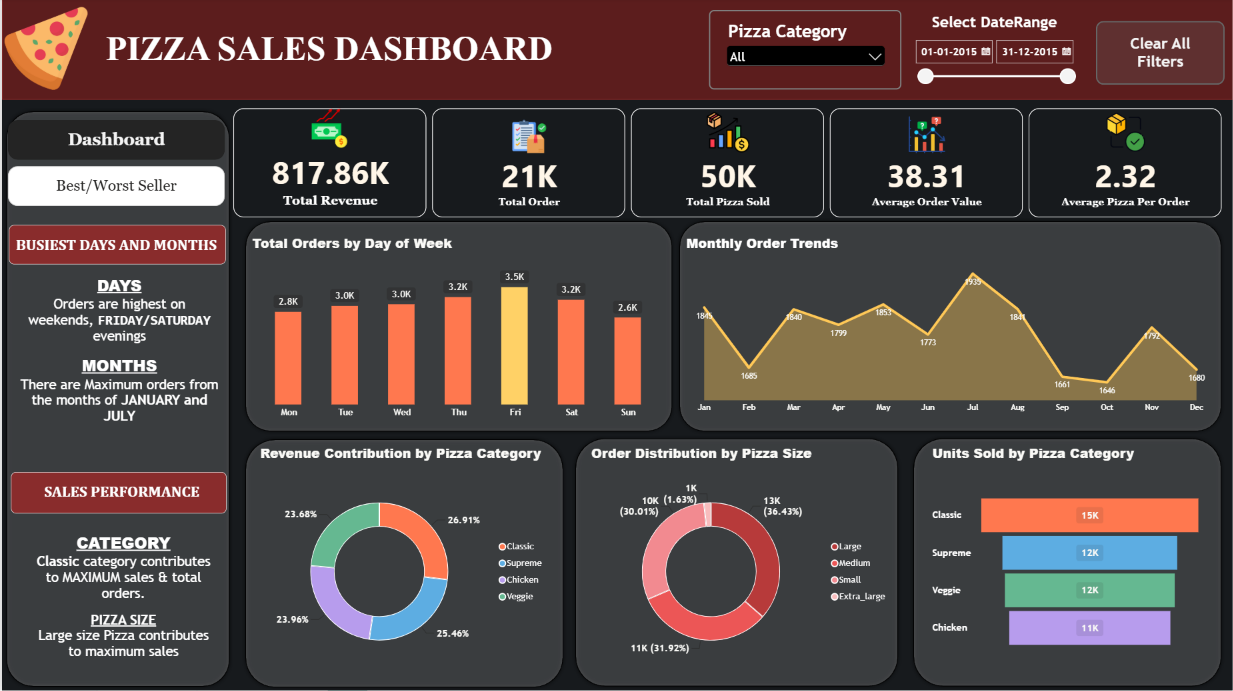

Layout of this report page (visuals, bound fields, positions):
{"tool":"powerbi","page":{"name":"Dashboard","canvas":[1920,1080],"ordinal":0},"visuals":[{"type":"textbox","box":[10,0,280,280],"z":0},{"type":"textbox","box":[10,290,280,280],"z":1000},{"type":"cardVisual","fields":{"Data":["KPIs.Total Revenue","KPIs.Total Order","KPIs.Total Pizza Sold","KPIs.Average Order Value","KPIs.Average Pizza Per Order"]},"box":[361,171.9,1545,171.9],"z":2000},{"type":"shape","box":[1.6,171.5,358.6,907.5],"z":3000},{"type":"shape","box":[1050.4,343.8,855.6,338],"z":4000},{"type":"shape","box":[373.9,682.4,506.1,397.2],"z":5000},{"type":"shape","box":[888.1,681.8,513.7,397.2],"z":6000},{"type":"shape","box":[1415.2,681.8,490.8,397.2],"z":7000},{"type":"shape","box":[374.3,343.8,676.1,338],"z":8000},{"type":"columnChart","title":"Total Orders by Day of Week","fields":{"Category":["Calender Table.Day Name"],"Y":["KPIs.Total Order"]},"box":[374.3,353.3,676.1,320.9],"z":9000},{"type":"stackedAreaChart","title":"Monthly Order Trends","fields":{"Category":["Calender Table.Month Name"],"Y":["KPIs.Total Order"]},"box":[1050.4,353.3,855.6,311.3],"z":10000},{"type":"donutChart","title":"Revenue Contribution by Pizza Category","fields":{"Category":["pizza_sales pizza_sales.pizza_category"],"Y":["Divide(KPIs.Total Revenue, ScopedEval(KPIs.Total Revenue, []))"]},"box":[386.9,682.1,480.3,383.6],"z":11000},{"type":"donutChart","title":"Order Distribution by Pizza Size","fields":{"Category":["pizza_sales pizza_sales.pizza_size"],"Y":["KPIs.Total Order"]},"box":[902.2,682.1,500.3,383.6],"z":12000},{"type":"funnel","title":"Units Sold by Pizza Category","fields":{"Category":["pizza_sales pizza_sales.pizza_category"],"Y":["KPIs.Total Pizza Sold"]},"box":[1434.2,682.1,451.9,383.6],"z":13000},{"type":"textbox","box":[15.3,815.5,347.6,263.6],"z":14000},{"type":"textbox","box":[11.7,353.5,338,61.1],"z":15000},{"type":"textbox","box":[13.3,738.8,336.1,64.9],"z":16000},{"type":"textbox","box":[13.3,430.3,338,276.9],"z":17000},{"type":"pageNavigator","box":[9.4,190.2,338,135.6],"z":18000},{"type":"shape","box":[0,0,1919.4,158.5],"z":19000},{"type":"textbox","box":[162.3,47.7,842.2,80.2],"z":20000},{"type":"image","box":[0,11.5,137.5,135.6],"z":21000},{"type":"slicer","fields":{"Values":["pizza_sales pizza_sales.pizza_category"]},"box":[1102,19.1,299.8,124.1],"z":22000},{"type":"slicer","title":"Select DateRange","fields":{"Values":["pizza_sales pizza_sales.order_date"]},"box":[1401.8,7.6,286.5,147.1],"z":23000},{"type":"actionButton","box":[1705.5,36.3,200.5,99.3],"z":24000}]}

Visuals, with their boxes in screenshot pixels (x1, y1, x2, y2), scaled from the page's 1920x1080 canvas onto the 1233x691 screenshot:
textbox: detection(6, 0, 186, 179)
textbox: detection(6, 186, 186, 365)
cardVisual - KPIs.Total Revenue x KPIs.Total Order: detection(232, 110, 1224, 220)
shape: detection(1, 110, 231, 690)
shape: detection(675, 220, 1224, 436)
shape: detection(240, 437, 565, 690)
shape: detection(570, 436, 900, 690)
shape: detection(909, 436, 1224, 690)
shape: detection(240, 220, 675, 436)
"Total Orders by Day of Week" columnChart: detection(240, 226, 675, 431)
"Monthly Order Trends" stackedAreaChart: detection(675, 226, 1224, 425)
"Revenue Contribution by Pizza Category" donutChart: detection(248, 436, 557, 682)
"Order Distribution by Pizza Size" donutChart: detection(579, 436, 901, 682)
"Units Sold by Pizza Category" funnel: detection(921, 436, 1211, 682)
textbox: detection(10, 522, 233, 690)
textbox: detection(8, 226, 225, 265)
textbox: detection(9, 473, 224, 514)
textbox: detection(9, 275, 226, 452)
pageNavigator: detection(6, 122, 223, 208)
shape: detection(0, 0, 1232, 101)
textbox: detection(104, 31, 645, 82)
image: detection(0, 7, 88, 94)
slicer - pizza_sales pizza_sales.pizza_category: detection(708, 12, 900, 92)
"Select DateRange" slicer: detection(900, 5, 1084, 99)
actionButton: detection(1095, 23, 1224, 87)
